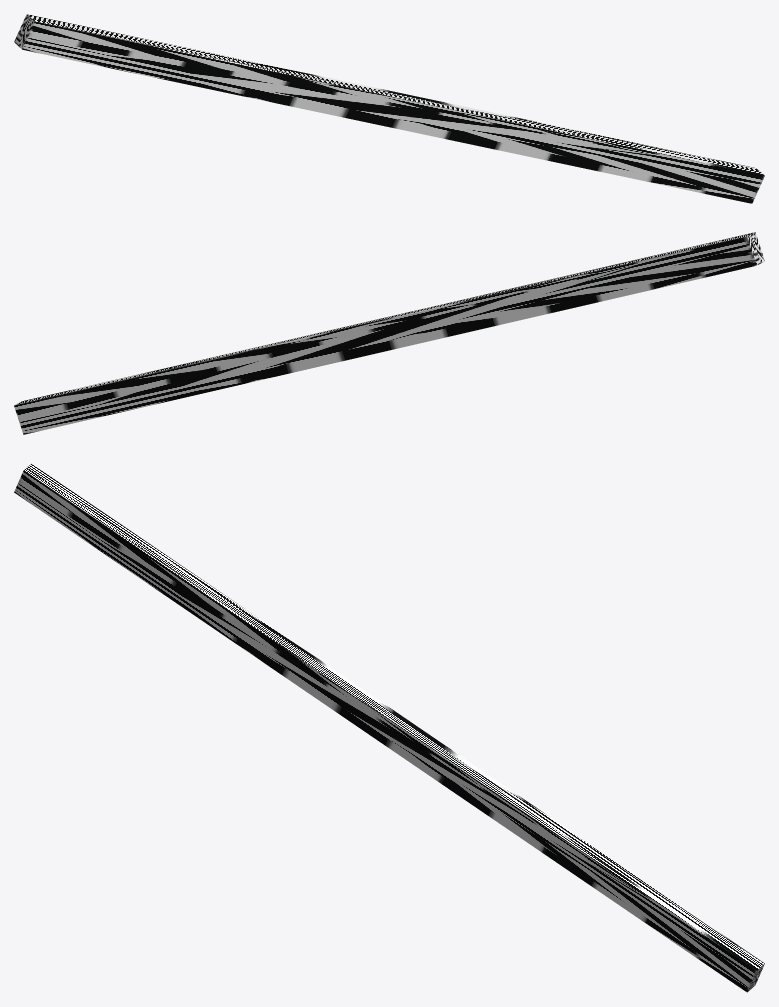
3 views of the same model, one above another, from view 1: azimuth 30°, elevation 25°; view 2: azimuth 150°, elevation 25°; view 3: azimuth 330°, elevation 25° (orthographic). The views are drawn at different scales.
Visible parts, largest first — view 1: Cube.031; view 2: Cube.031; view 3: Cube.031.
Boxes of the visible parts, x1=… form: Cube.031: x1=14, y1=14, x2=764, y2=203; Cube.031: x1=14, y1=232, x2=764, y2=434; Cube.031: x1=14, y1=463, x2=764, y2=992.
Bounding box in the file's own units: 15.4 × 7.28 × 0.8458.
1 material, 1 textured.
